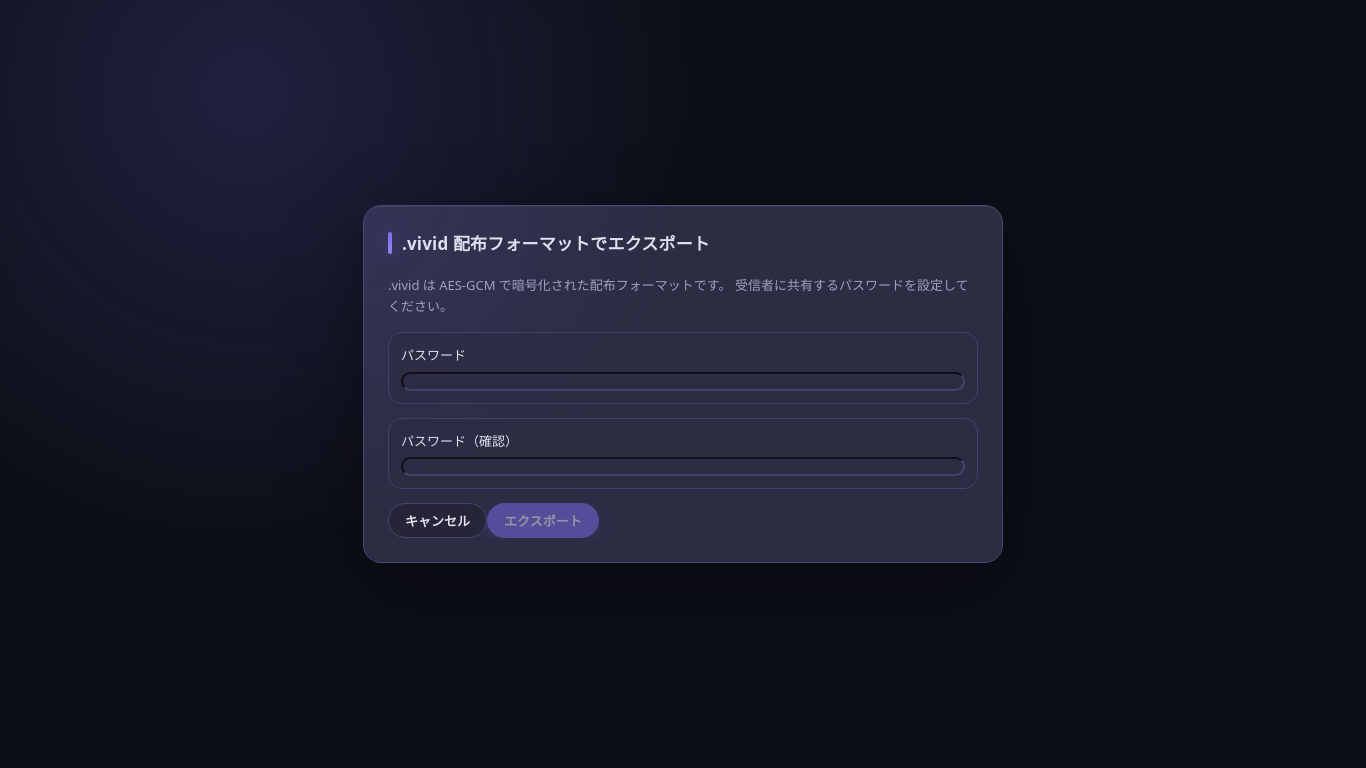
Test case: VividDialog › 共通動作 › パスワードのみ入力し確認パスワード空で送信すると不一致エラー
Step 1. Type "mainPass" into the password field labelled "パスワード" → (683, 381), box [401, 372, 965, 390]
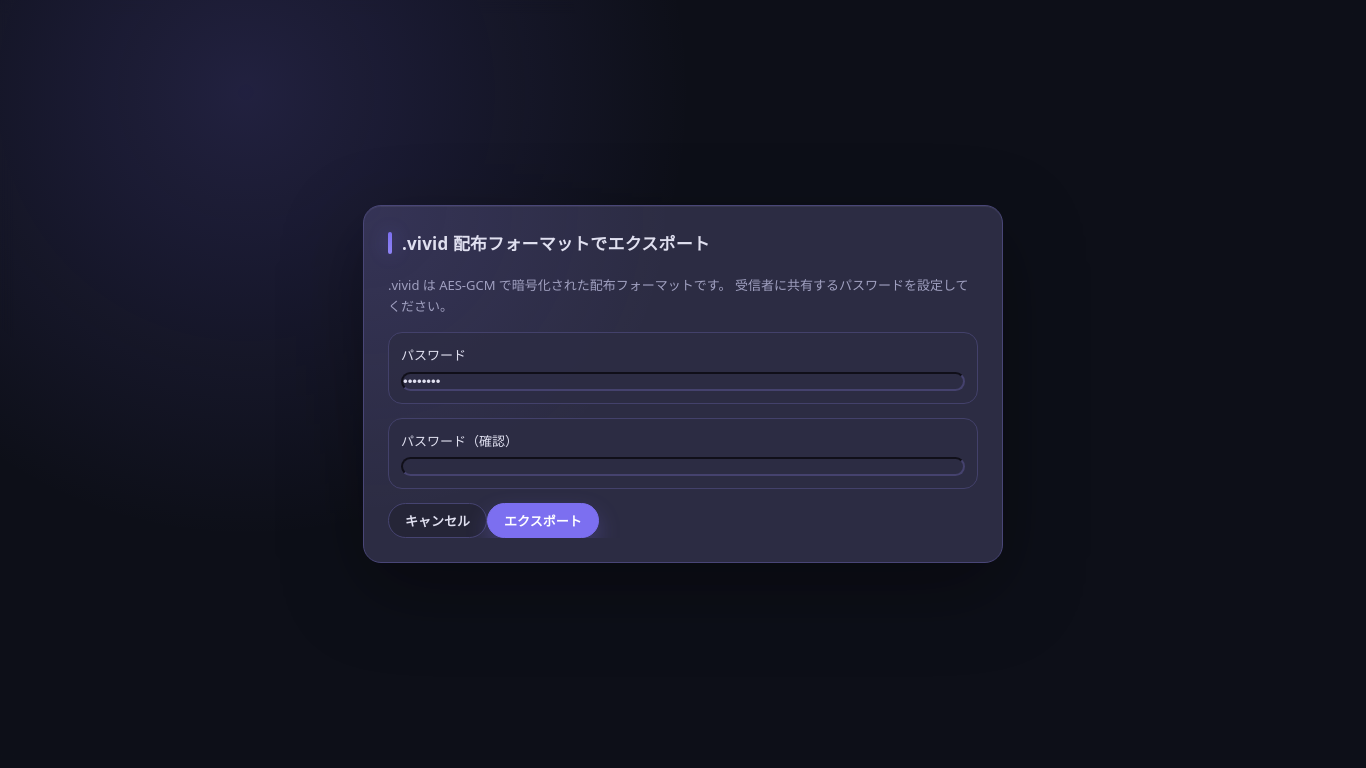
Step 2. Click the button "エクスポート" → (543, 521), box [487, 503, 599, 538]
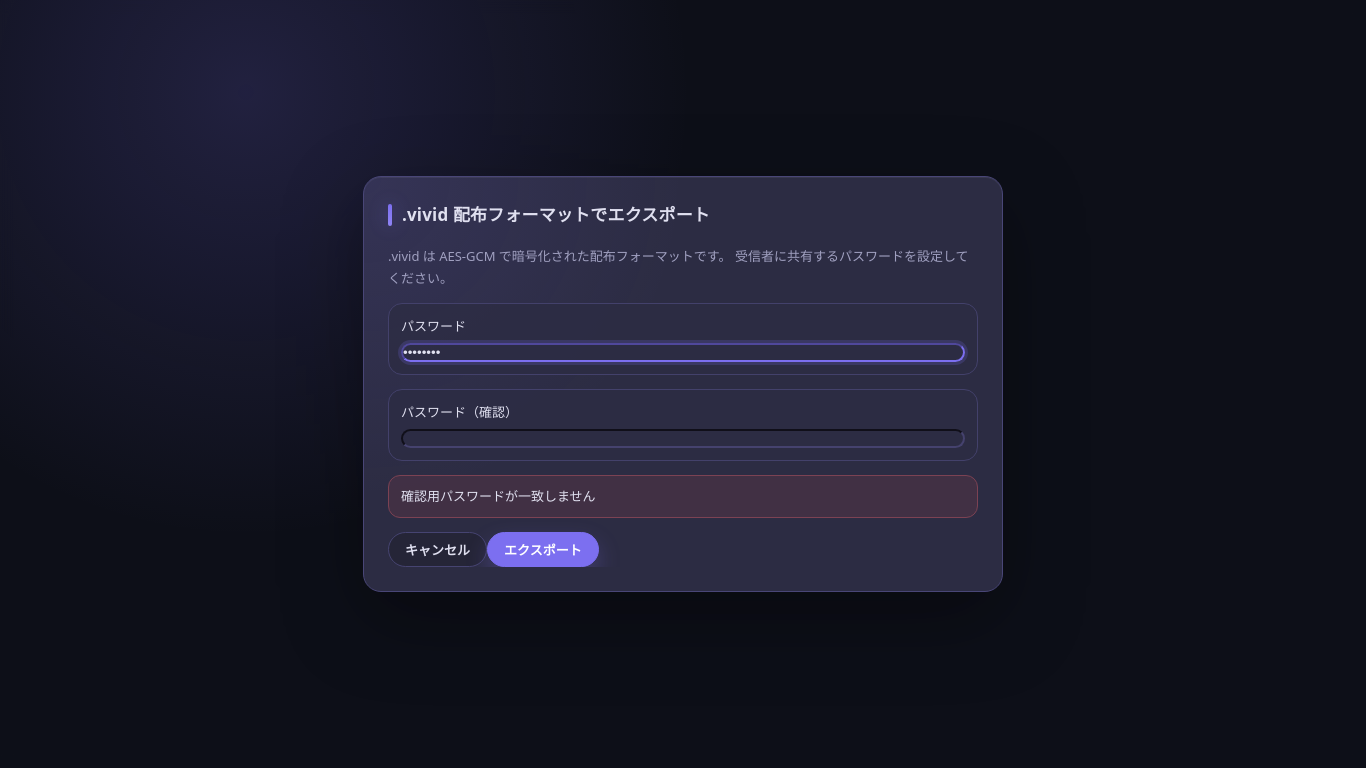
Now the text "確認用パスワードが一致しません" is shown, box [388, 475, 978, 518]
